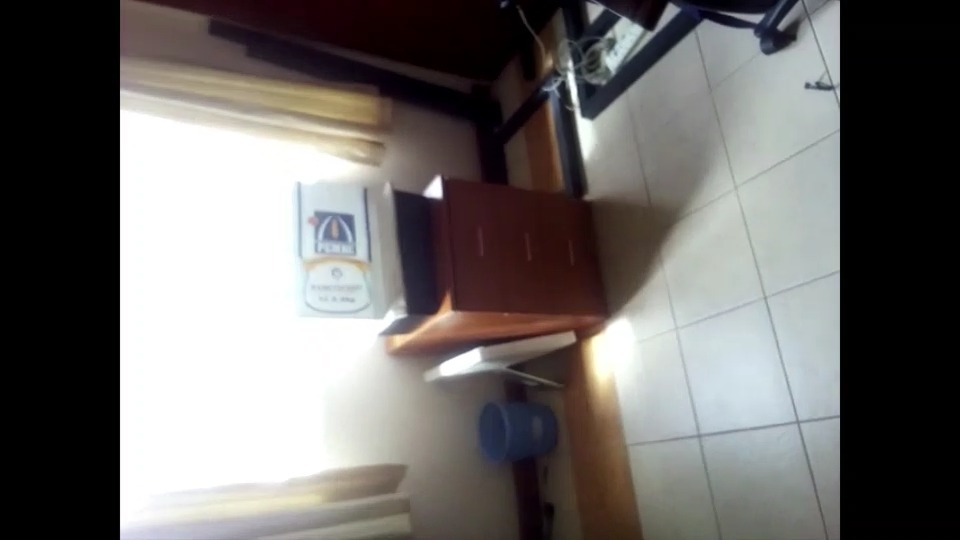wheat_flour_blue_label: (295, 179, 395, 315)
